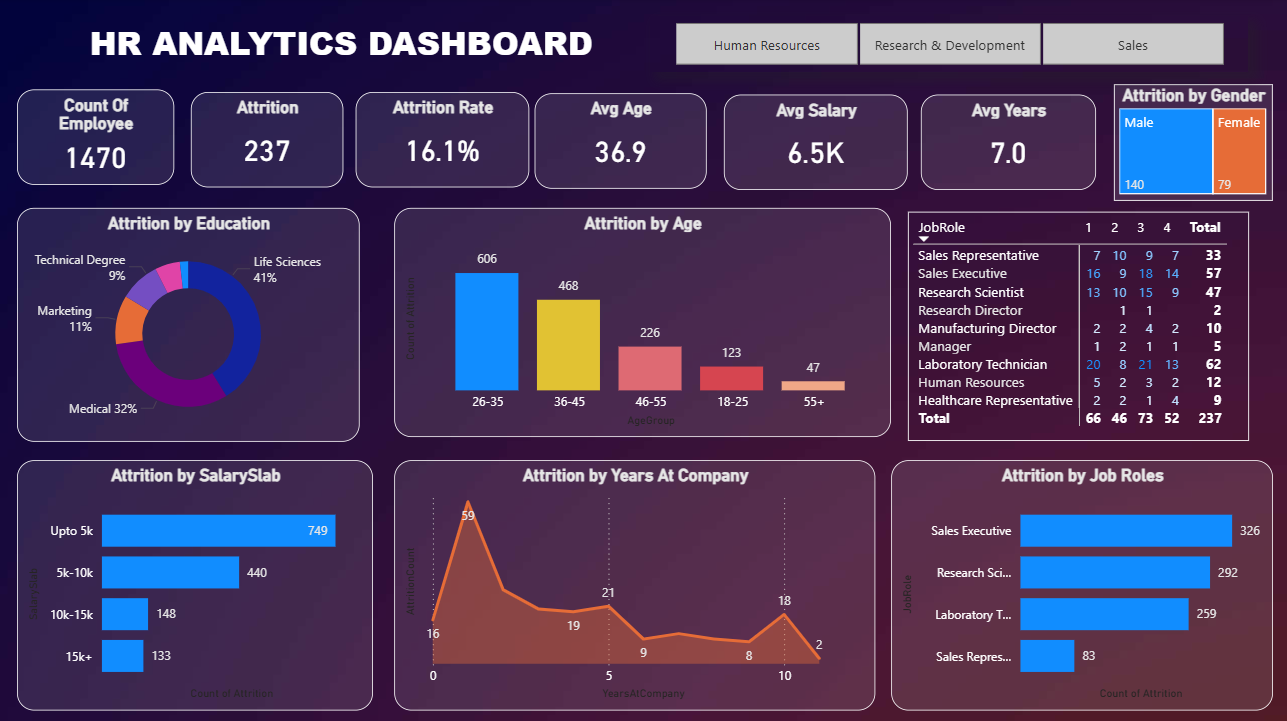

What the dashboard file says about the page in this screenshot:
{"tool":"powerbi","page":{"name":"Page 1","canvas":[1280,720],"ordinal":0},"visuals":[{"type":"card","title":"Count Of Employee","fields":{"Values":["CountNonNull(HR_Analytics (1).EmpID)"]},"box":[18,91.4,155.8,94.4],"z":0},{"type":"card","title":"Attrition","fields":{"Values":["HR_Analytics (1).AttritionCount"]},"box":[190.3,92.9,151.3,94.4],"z":1000},{"type":"card","title":"Avg Age","fields":{"Values":["Avg(HR_Analytics (1).Age)"]},"box":[532,94.4,170.8,94.4],"z":2000},{"type":"card","title":"Attrition Rate","fields":{"Values":["HR_Analytics (1).Attrition Rate"]},"box":[353.6,92.9,172.3,94.4],"z":3000},{"type":"card","title":"Avg Years","fields":{"Values":["Avg(HR_Analytics (1).YearsAtCompany)"]},"box":[915.6,95.9,173.8,94.4],"z":4000},{"type":"card","title":"Avg Salary","fields":{"Values":["Avg(HR_Analytics (1).MonthlyIncome)"]},"box":[719.3,95.9,182.8,94.4],"z":5000},{"type":"donutChart","title":"Attrition by Education","fields":{"Category":["HR_Analytics (1).EducationField"],"Y":["CountNonNull(HR_Analytics (1).Attrition)"]},"box":[18,208.3,340.2,232.3],"z":6000},{"type":"columnChart","title":"Attrition by Age","fields":{"Y":["CountNonNull(HR_Analytics (1).Attrition)"],"Category":["HR_Analytics (1).AgeGroup"]},"box":[392.6,208.3,493,227.8],"z":7000},{"type":"pivotTable","fields":{"Rows":["HR_Analytics (1).JobRole"],"Columns":["HR_Analytics (1).JobSatisfaction"],"Values":["HR_Analytics (1).AttritionCount"]},"box":[902.1,212.8,338.7,227.8],"z":8000},{"type":"barChart","title":"Attrition by SalarySlab","fields":{"Category":["HR_Analytics (1).SalarySlab"],"Y":["CountNonNull(HR_Analytics (1).Attrition)"]},"box":[18,458.5,353.6,248.7],"z":9000},{"type":"barChart","title":"Attrition by Job Roles","fields":{"Category":["HR_Analytics (1).JobRole"],"Y":["CountNonNull(HR_Analytics (1).Attrition)"]},"box":[885.6,458.5,379.1,248.7],"z":10000},{"type":"areaChart","title":"Attrition by Years At Company","fields":{"Category":["HR_Analytics (1).YearsAtCompany"],"Y":["HR_Analytics (1).AttritionCount"]},"box":[392.6,458.5,478,248.7],"z":11000},{"type":"treemap","title":"Attrition by Gender","fields":{"Group":["HR_Analytics (1).Gender"],"Values":["HR_Analytics (1).AttritionCount"]},"box":[1107.4,85.4,157.3,115.4],"z":12000},{"type":"slicer","fields":{"Values":["HR_Analytics (1).Department"]},"box":[647.3,18,593.4,55.4],"z":13000},{"type":"textbox","box":[31.5,16.5,615.9,56.9],"z":14000}]}

Visuals, with their boxes in screenshot pixels (x1, y1, x2, y2), scaled from the page's 1280x720 canvas onto the 1287x721 screenshot:
"Count Of Employee" card: (x1=18, y1=92, x2=175, y2=186)
"Attrition" card: (x1=191, y1=93, x2=343, y2=188)
"Avg Age" card: (x1=535, y1=95, x2=707, y2=189)
"Attrition Rate" card: (x1=356, y1=93, x2=529, y2=188)
"Avg Years" card: (x1=921, y1=96, x2=1095, y2=191)
"Avg Salary" card: (x1=723, y1=96, x2=907, y2=191)
"Attrition by Education" donutChart: (x1=18, y1=209, x2=360, y2=441)
"Attrition by Age" columnChart: (x1=395, y1=209, x2=890, y2=437)
pivotTable - HR_Analytics (1).JobRole x HR_Analytics (1).JobSatisfaction: (x1=907, y1=213, x2=1248, y2=441)
"Attrition by SalarySlab" barChart: (x1=18, y1=459, x2=374, y2=708)
"Attrition by Job Roles" barChart: (x1=890, y1=459, x2=1272, y2=708)
"Attrition by Years At Company" areaChart: (x1=395, y1=459, x2=875, y2=708)
"Attrition by Gender" treemap: (x1=1113, y1=86, x2=1272, y2=201)
slicer - HR_Analytics (1).Department: (x1=651, y1=18, x2=1247, y2=74)
textbox: (x1=32, y1=17, x2=651, y2=74)
